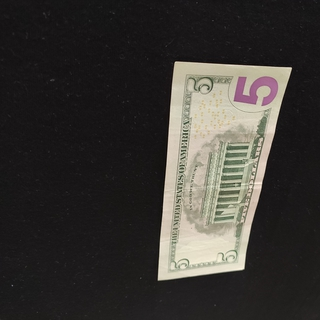5USDBack: (157, 61, 292, 281)
